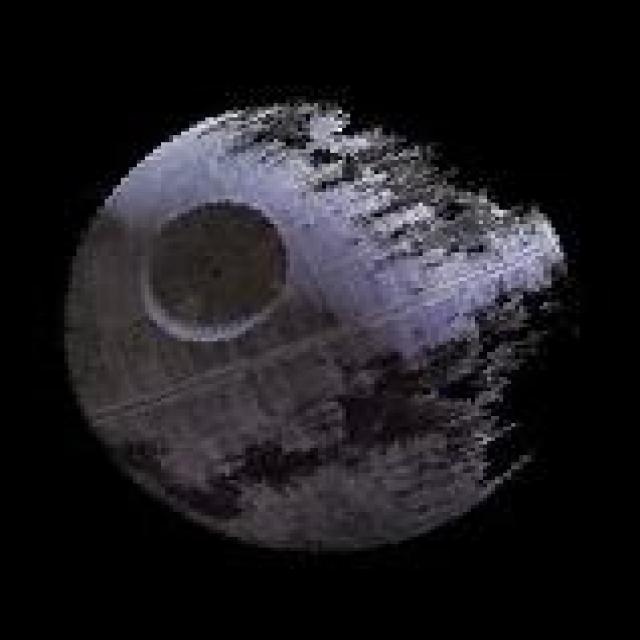Death Star: (57, 89, 576, 558)
